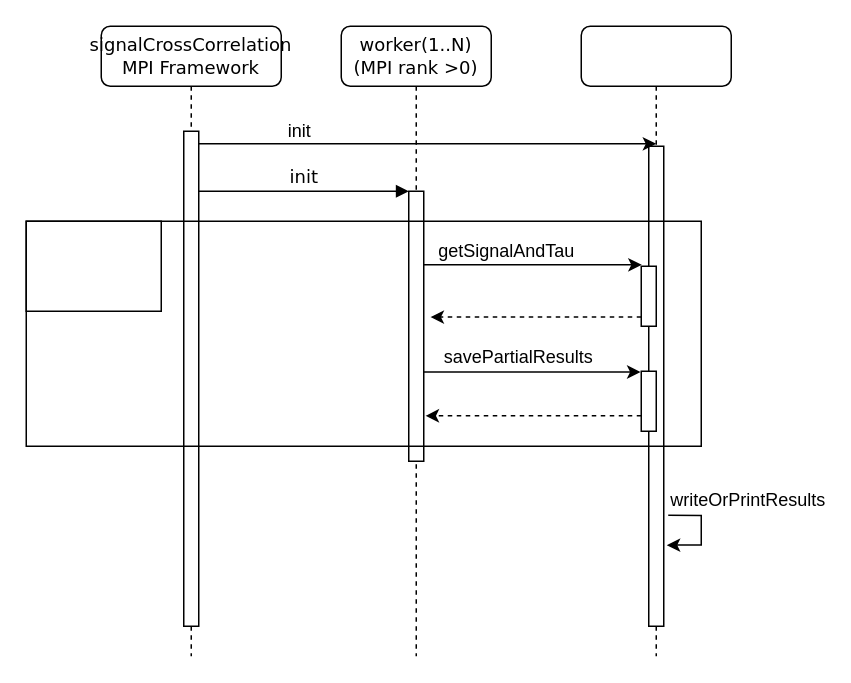
Image size: 851x683. Some labels were removed from this diagram. The box of each missing label's shape, as (x1, y1, x2, y2) in pixels:
dispatcher (MPI rank=0): (580, 25, 731, 656)
Repeat while possible (Using MPI Messages): (25, 220, 161, 311)
